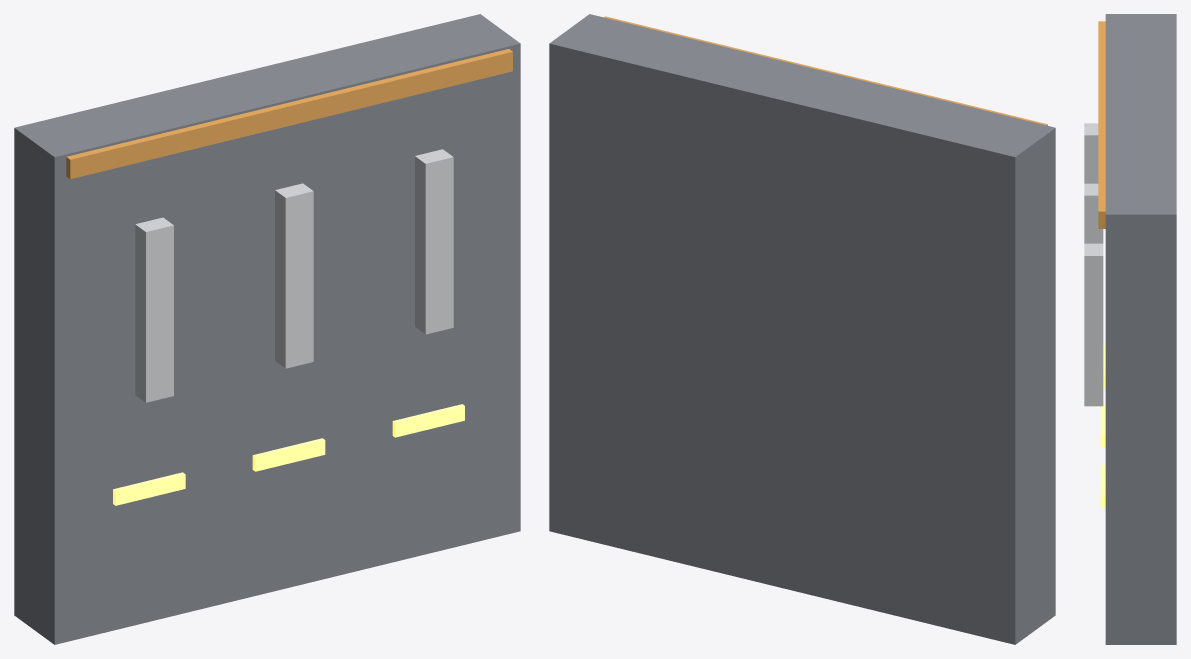
File: weapon-rack.glb
3 renders of one model, left to right at view 1: azimuth 30°, elevation 25°; view 2: azimuth 150°, elevation 25°; view 3: azimuth 270°, elevation 25°, orthographic. The views are drawn at different scales.
Parts seen in each view (by area): view 1: rack; view 2: rack; view 3: rack.
Part boxes in pixels (box(x1,y1,x2,y2)): rack: box(14, 14, 520, 644); rack: box(549, 14, 1055, 644); rack: box(1084, 14, 1176, 644).
Size of the model in its own units: 2 by 2 by 0.39.
